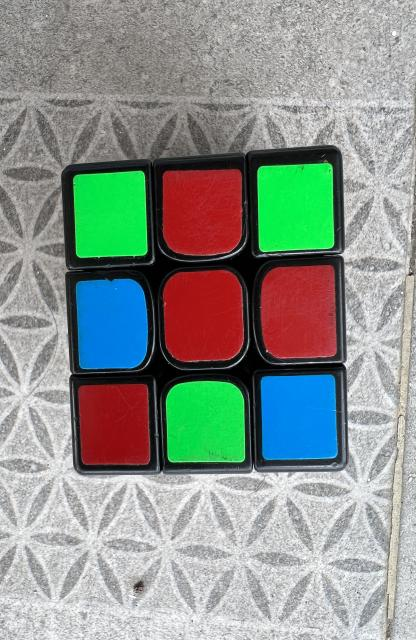Blue: (261, 375, 338, 460), (76, 279, 148, 369)
Green: (258, 162, 334, 251), (73, 170, 147, 258), (166, 381, 246, 462)
Red: (164, 270, 244, 361), (260, 265, 337, 359), (162, 169, 243, 255), (78, 384, 151, 465)
